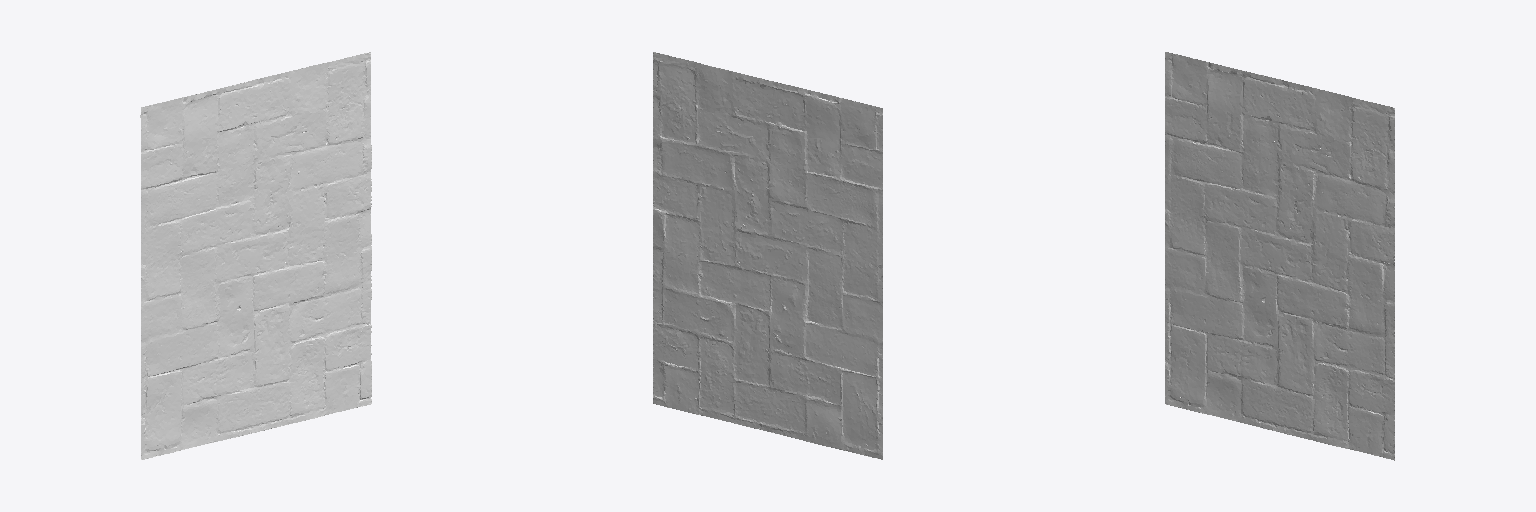
The model's file is floor.obj.
3 views of the same model, side by side, from view 1: azimuth 30°, elevation 25°; view 2: azimuth 150°, elevation 25°; view 3: azimuth 330°, elevation 25° (orthographic).
Bounding box in the file's own units: 23.79 × 34.76 × 0.2304.